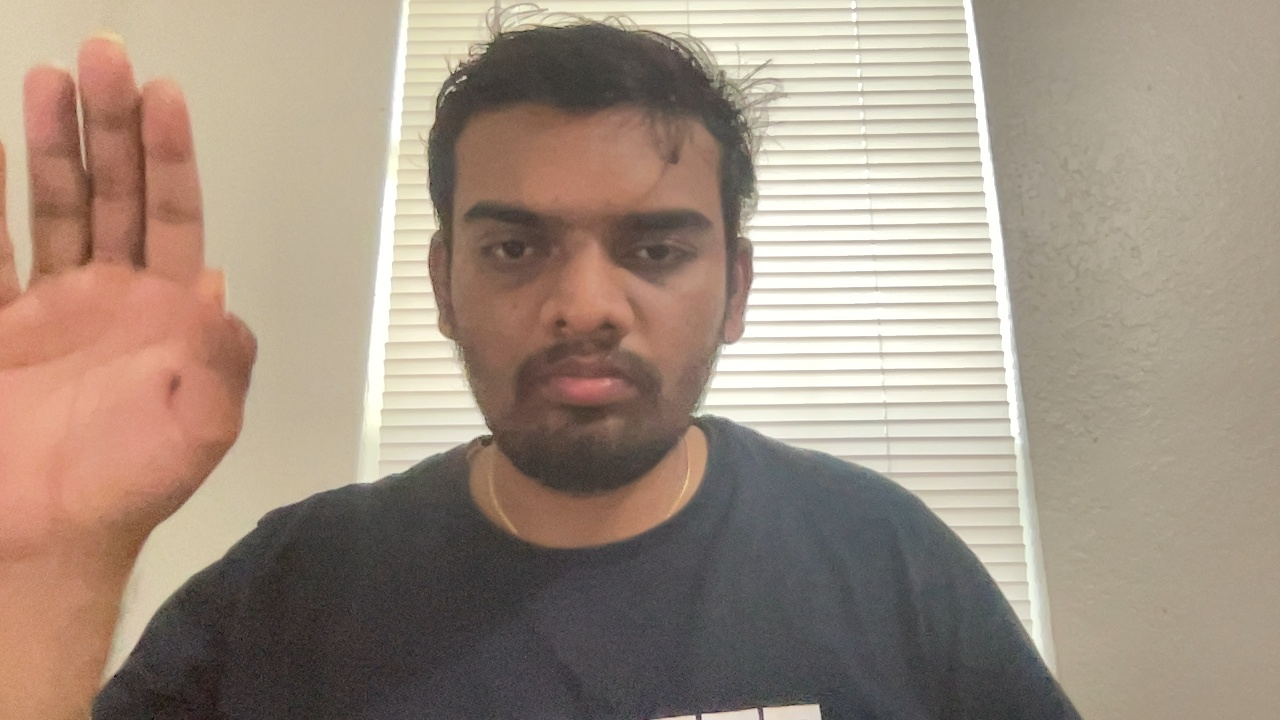hello: (1, 26, 253, 541)
